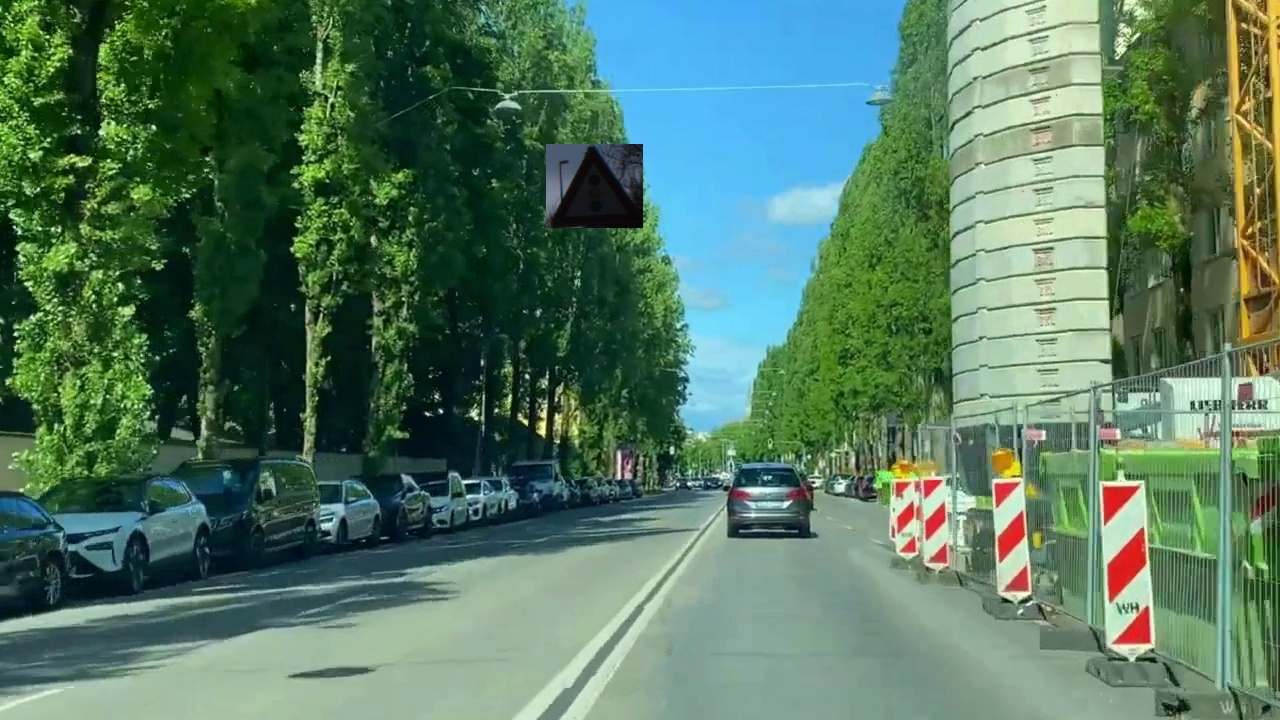Signals: (546, 144, 643, 228)
